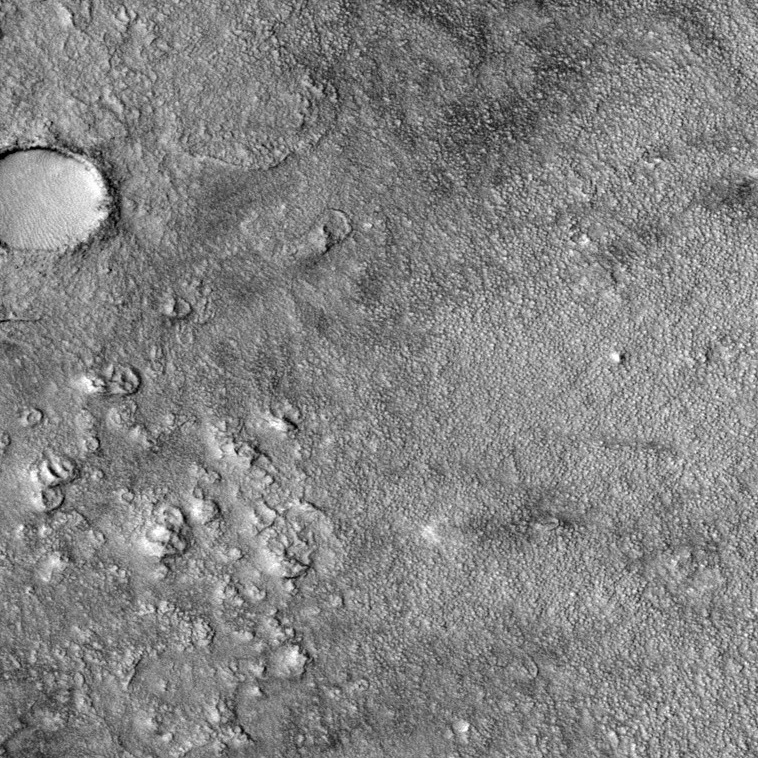dust_devil: (419, 502, 535, 547)
